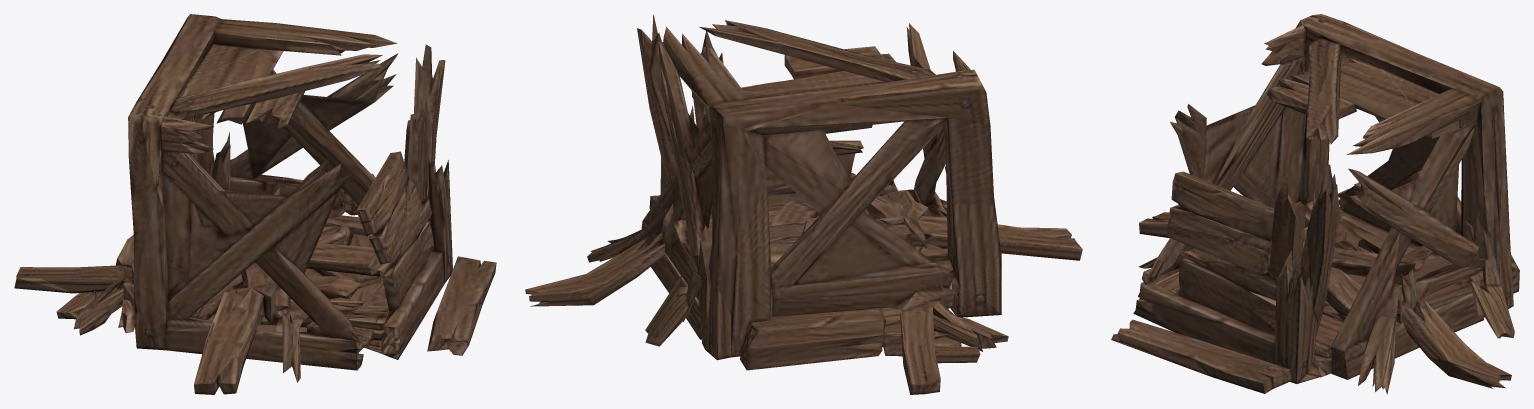
Rendered from crate_broken_3d.glb.
The picture shows the model from 3 angles, left to right: view 1: azimuth 30°, elevation 25°; view 2: azimuth 150°, elevation 25°; view 3: azimuth 270°, elevation 25°; orthographic projection. The views are drawn at different scales.
Parts seen in each view (by area): view 1: Mesh_0; view 2: Mesh_0; view 3: Mesh_0.
Boxes of the visible parts, x1,y1,x2,y2 form: Mesh_0: (14,14,496,394); Mesh_0: (525,14,1082,394); Mesh_0: (1111,14,1519,394).
Size of the model in its own units: 0.75 by 0.4319 by 0.7119.
Materials: 1 (1 with a texture image).
